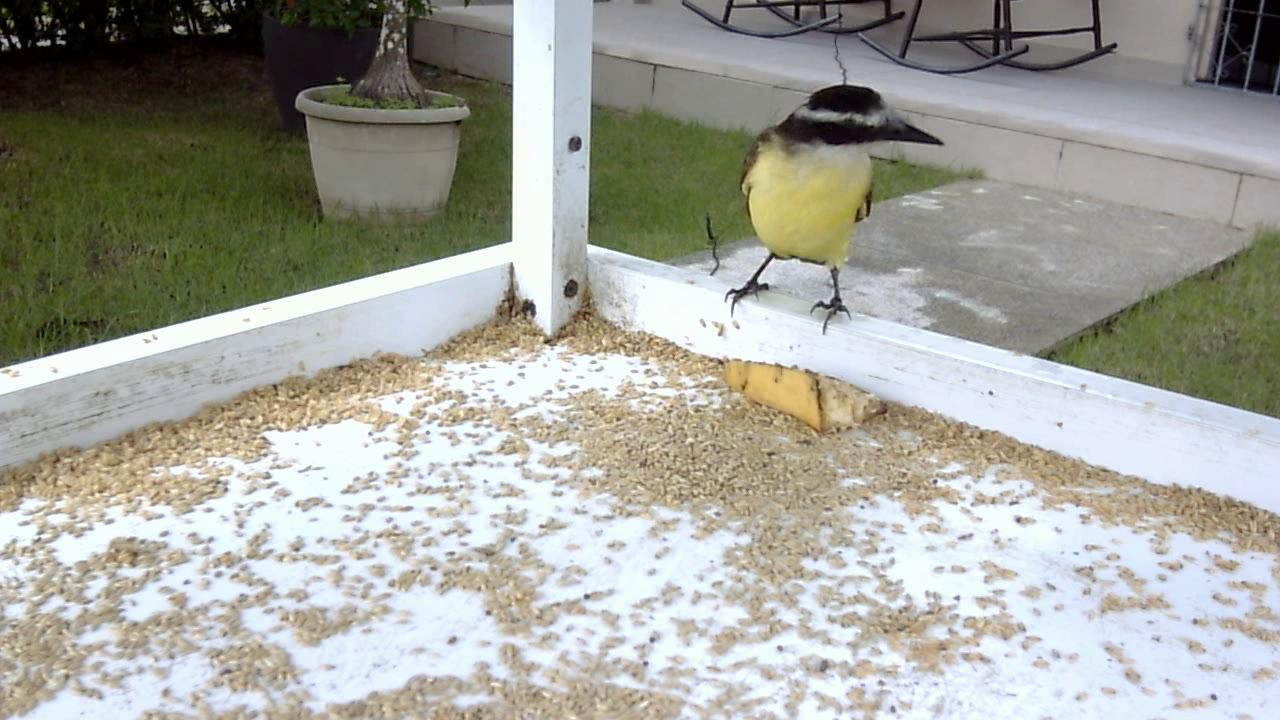bem_te_vi: (701, 64, 952, 348)
